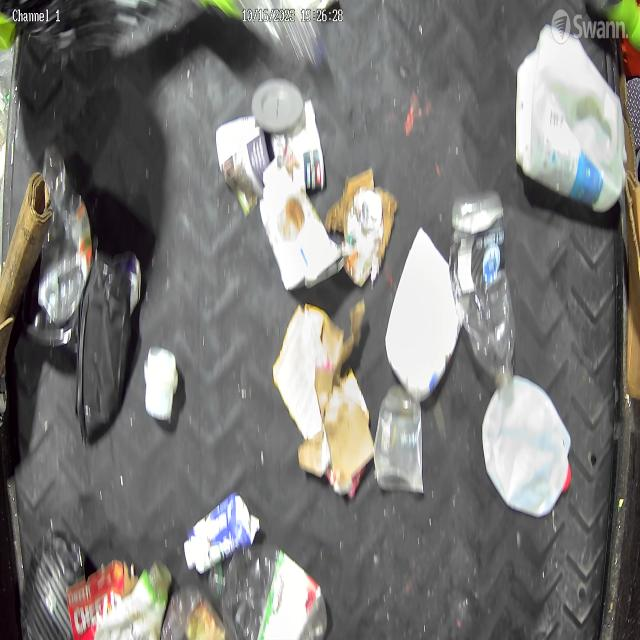can: (341, 186, 385, 288)
milk_jug: (514, 23, 628, 216), (481, 371, 574, 518)
plastic_bottle: (449, 187, 517, 388), (207, 536, 330, 640)
